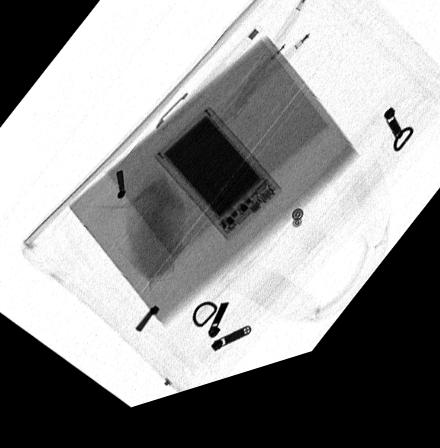Powerbank: (151, 119, 280, 256)
